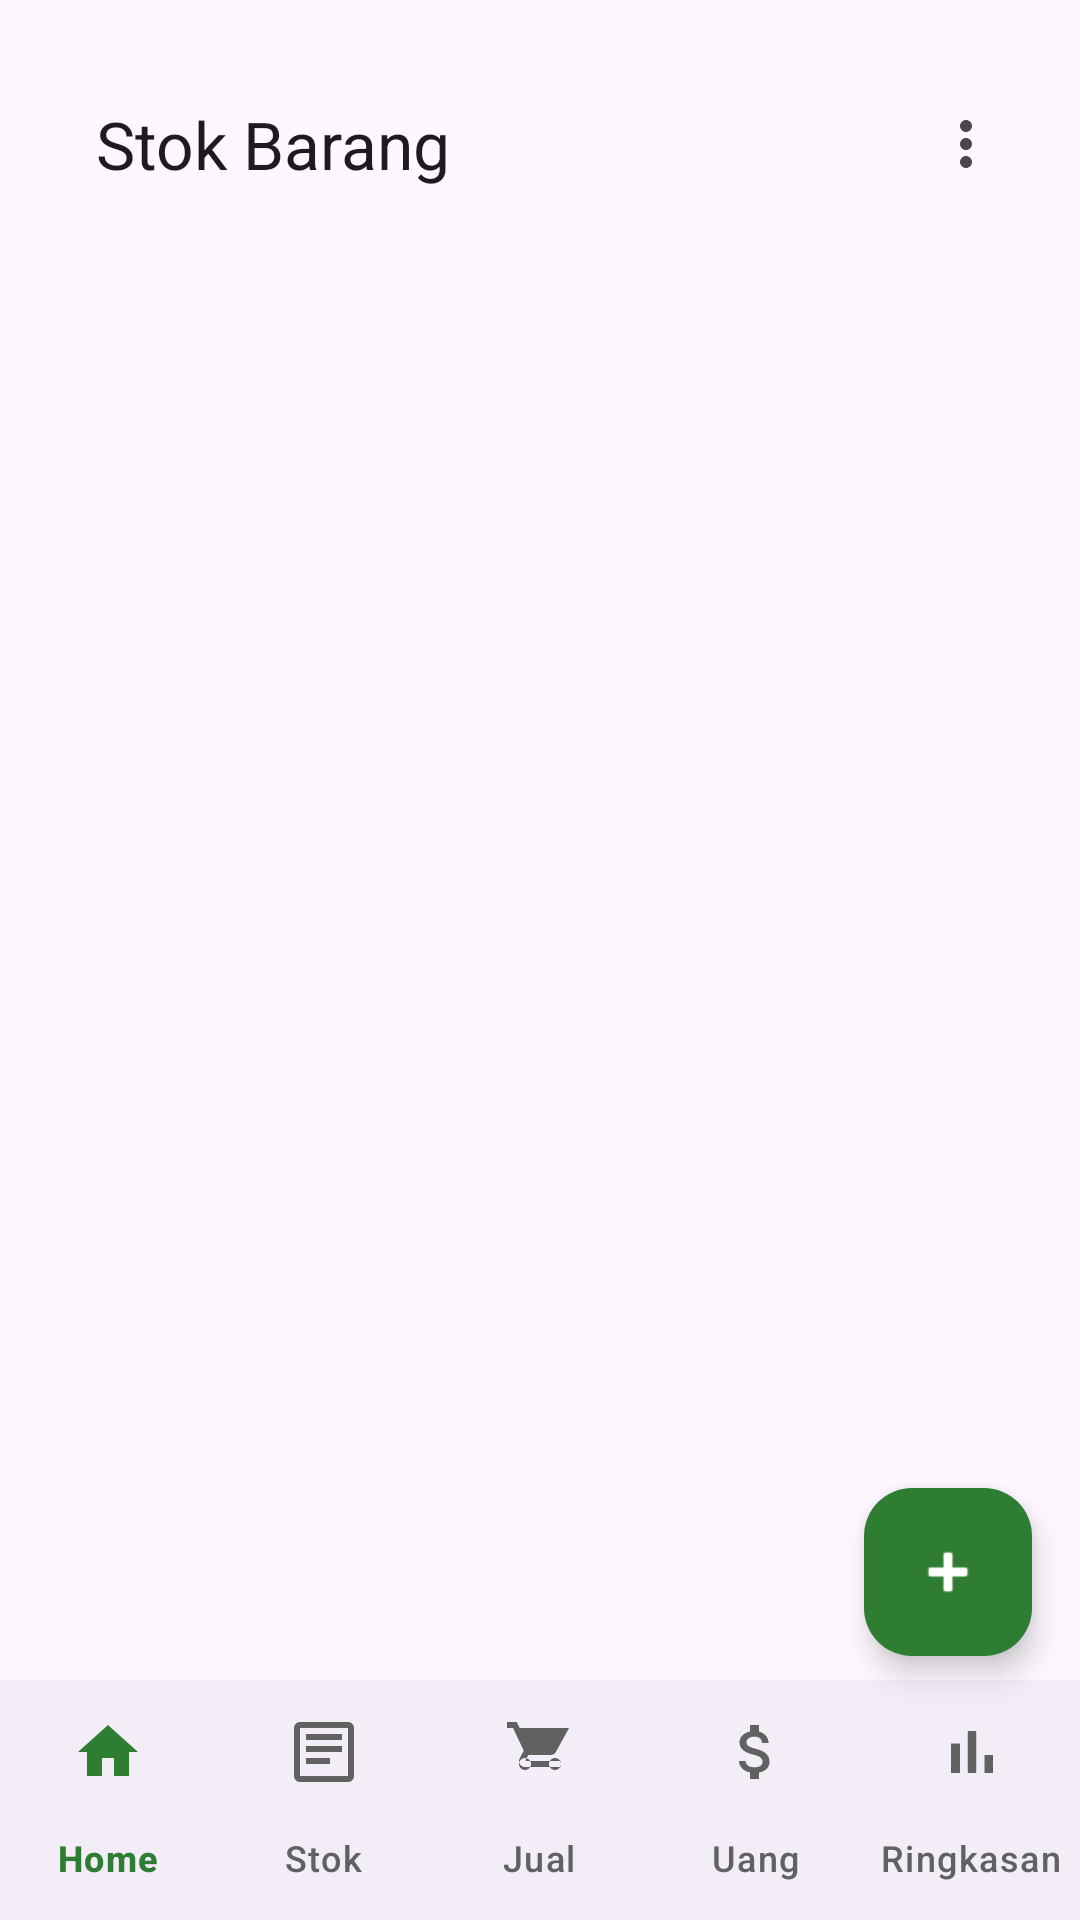

Icon click points for this 1080w x 1920h phone screenshot, format [x,y]:
Tambah Barang: [948,1572]
